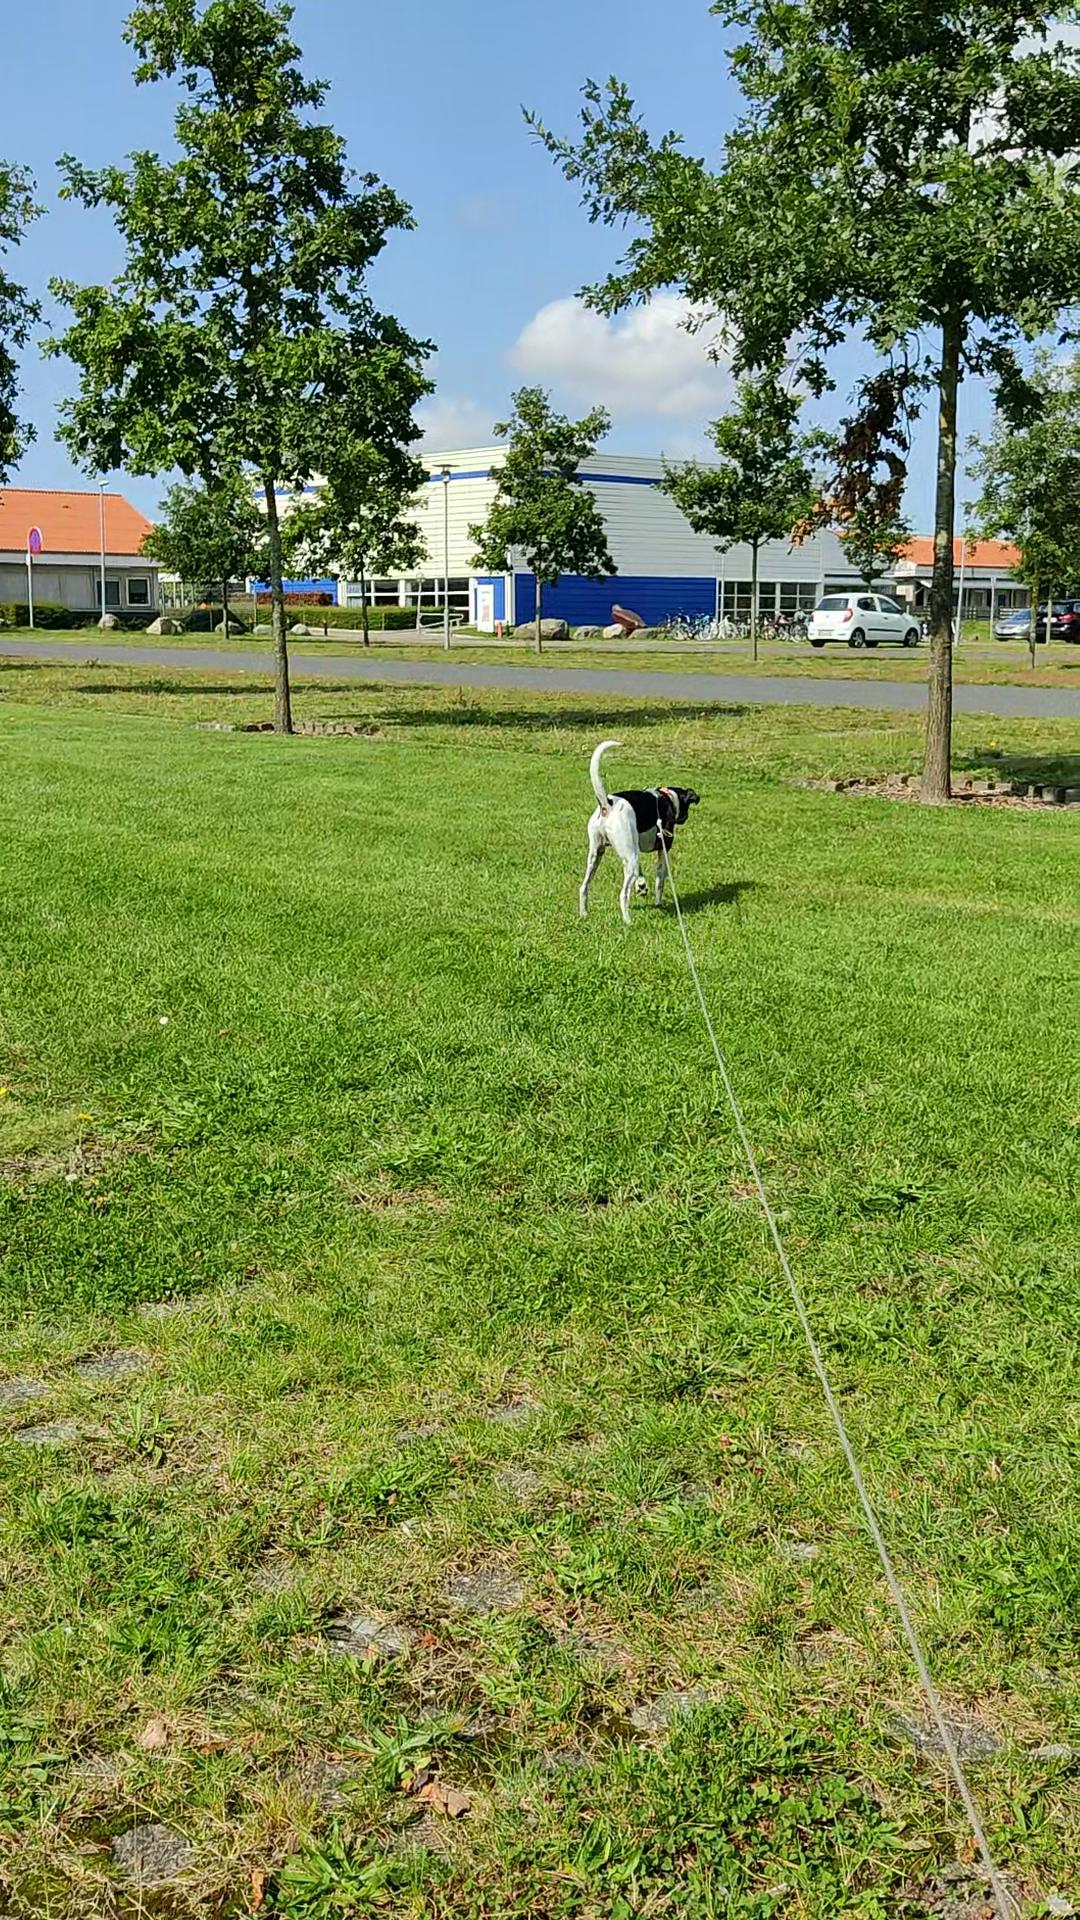Dog: (574, 736, 704, 928)
